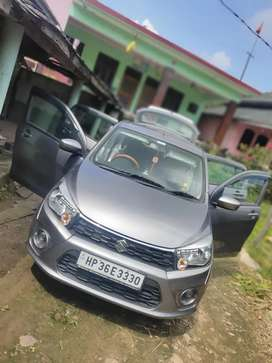HP36E3330: (77, 250, 145, 291)
